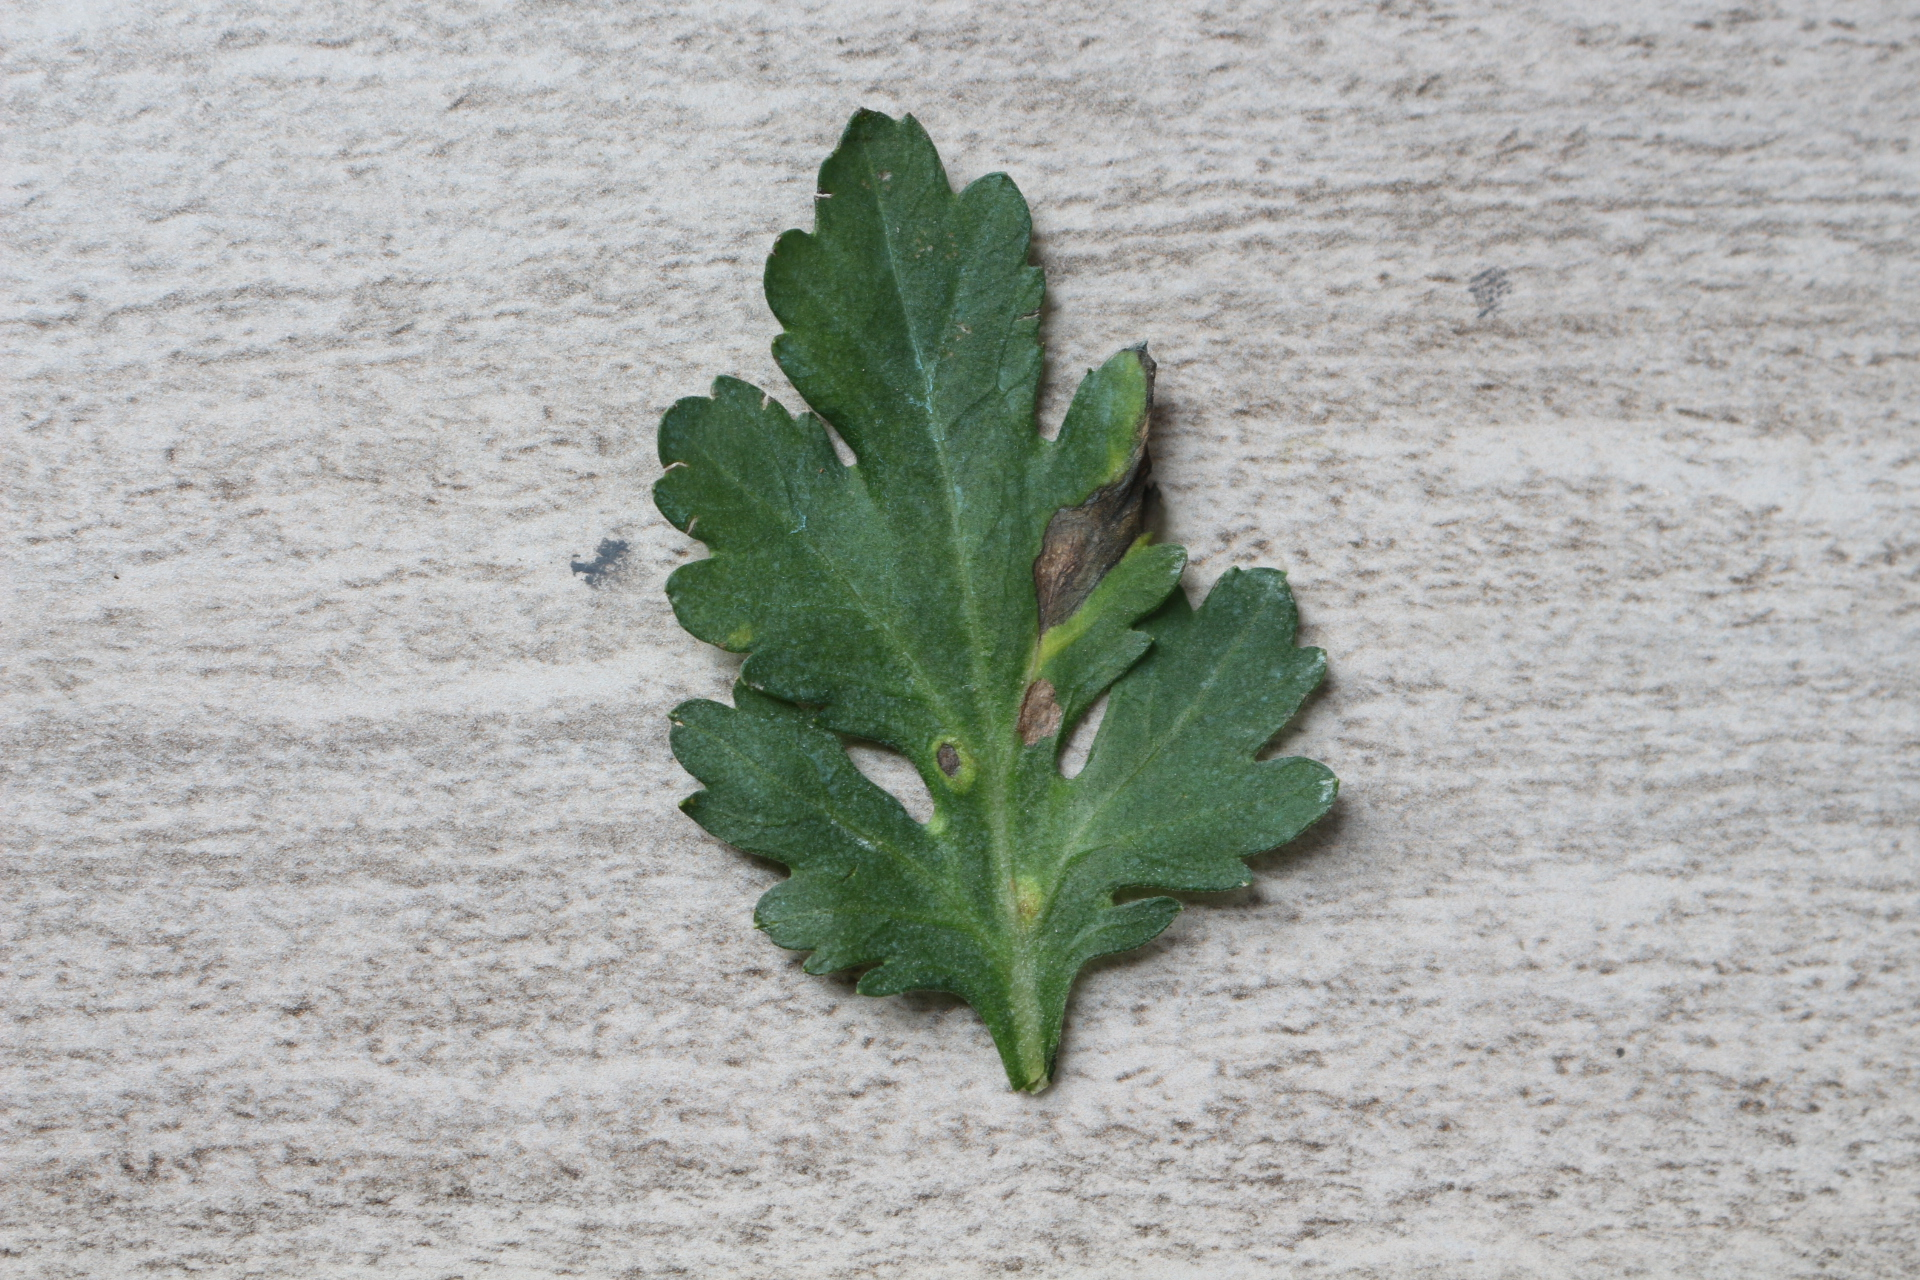namden: (1021, 679, 1061, 749), (930, 736, 974, 789)
namsung: (994, 863, 1047, 937)
